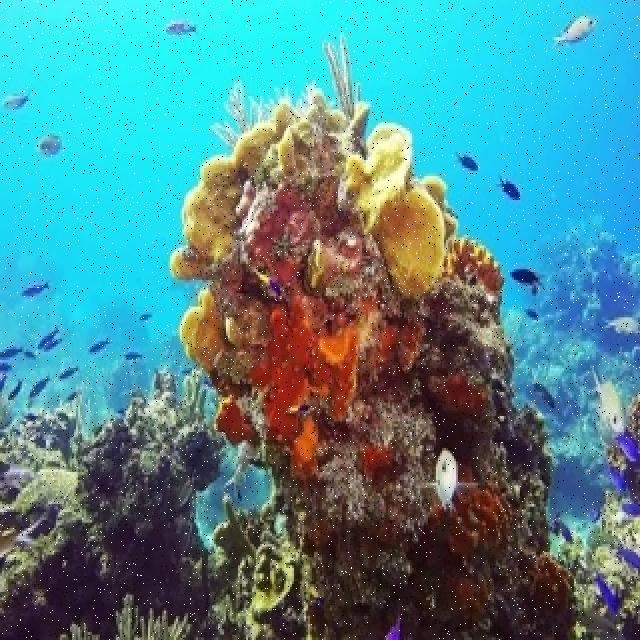fish: (592, 362, 627, 433), (546, 14, 598, 45), (435, 450, 459, 515), (593, 568, 621, 615), (494, 170, 522, 204), (611, 433, 638, 464), (511, 268, 547, 290), (601, 315, 638, 336), (2, 85, 33, 109), (35, 133, 64, 157), (161, 20, 202, 34), (456, 151, 480, 172), (29, 375, 51, 397), (87, 337, 112, 355), (22, 281, 51, 296), (620, 548, 638, 571), (0, 346, 25, 360)
reefs: (164, 20, 502, 479), (209, 494, 304, 635)
